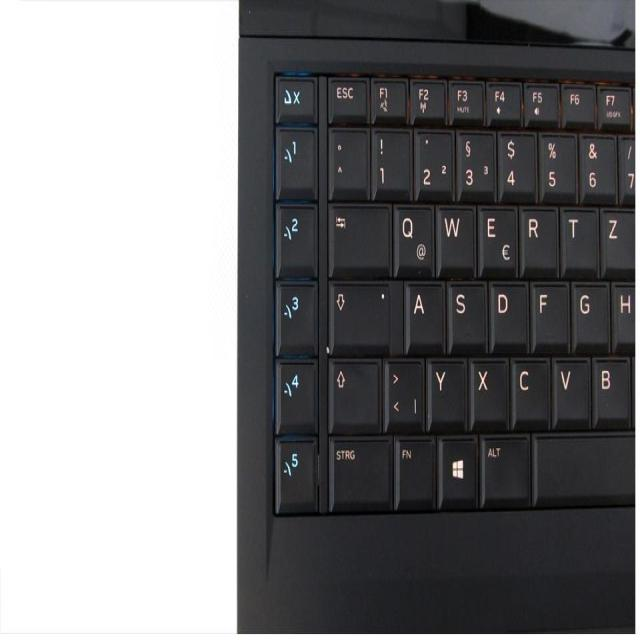1: (371, 126, 409, 198)
2: (413, 127, 452, 198)
3: (455, 127, 495, 200)
4: (498, 128, 536, 198)
5: (537, 129, 576, 200)
6: (579, 131, 615, 201)
a: (404, 277, 443, 352)
alt-left: (479, 431, 529, 505)
b: (591, 355, 629, 425)
c: (510, 354, 549, 427)
caret: (328, 126, 366, 196)
d: (488, 277, 527, 351)
del: (328, 200, 390, 274)
e: (477, 203, 517, 276)
f: (530, 279, 567, 349)
g: (571, 278, 609, 349)
h: (611, 278, 635, 351)
keyboard: (271, 64, 631, 519)
less: (383, 354, 422, 429)
q: (391, 200, 433, 276)
r: (519, 203, 558, 275)
s: (446, 277, 485, 352)
shift-left: (327, 357, 379, 430)
shift-lock: (328, 278, 401, 351)
space: (531, 433, 633, 506)
strg-left: (326, 435, 391, 510)
t: (560, 204, 597, 274)
v: (553, 355, 589, 425)
w: (435, 200, 474, 276)
x: (469, 356, 507, 426)
y: (425, 356, 465, 429)
z: (600, 205, 634, 275)
